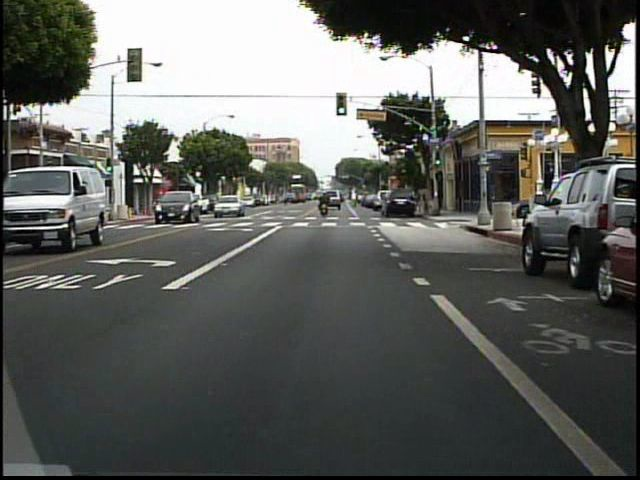person: (66, 191, 84, 221), (77, 191, 89, 222), (319, 190, 331, 219)
